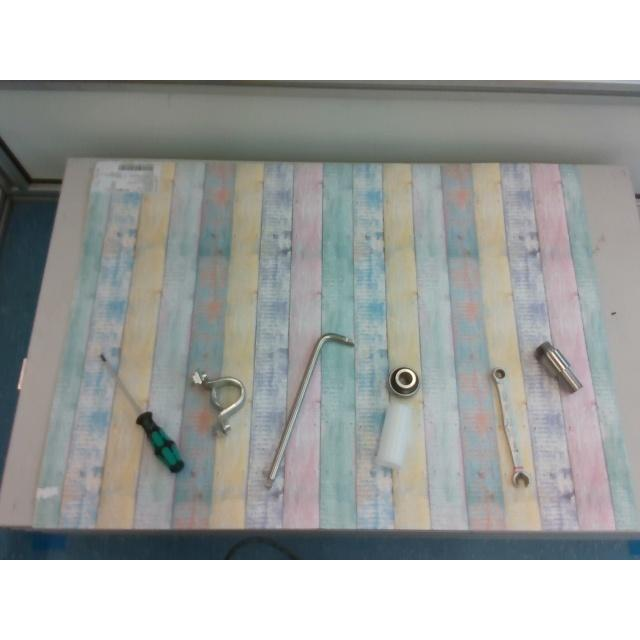AllenKey: (266, 333, 354, 487)
Axis2: (534, 341, 582, 392)
Bearing2: (388, 367, 419, 398)
Housing: (192, 371, 244, 433)
Screwdriver: (100, 352, 184, 472)
Spacer: (376, 399, 422, 468)
Wrench: (490, 367, 530, 487)
